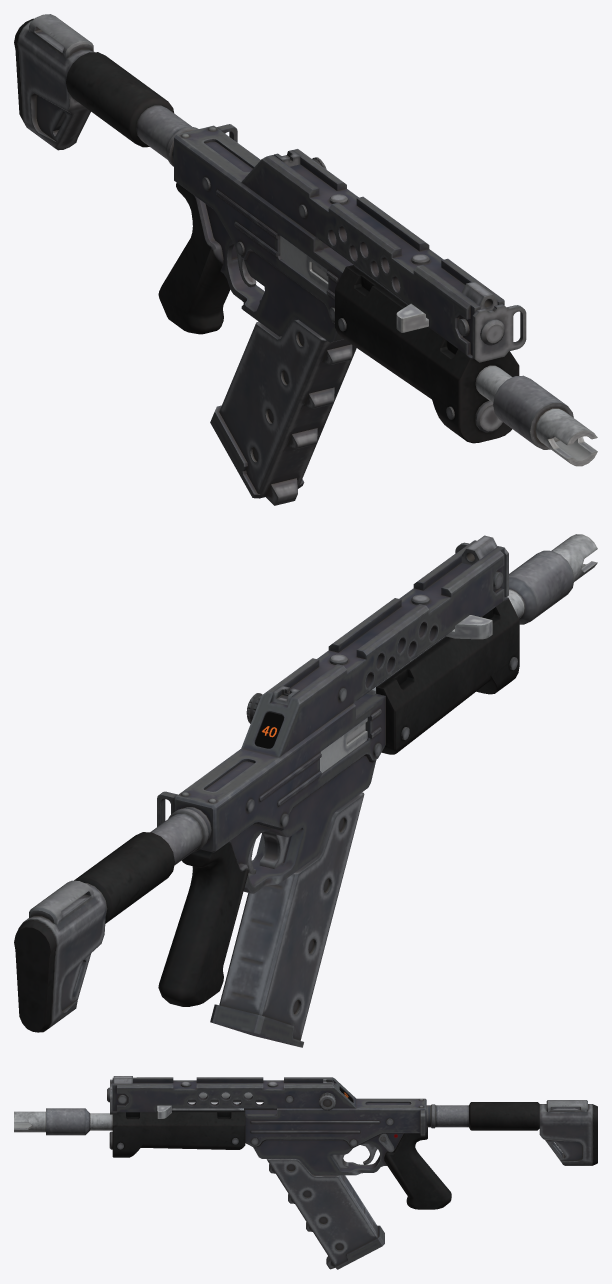
The model's file is gun.glb.
3 views of the same model, one above another, from view 1: azimuth 30°, elevation 25°; view 2: azimuth 150°, elevation 25°; view 3: azimuth 270°, elevation 25° (orthographic). The views are drawn at different scales.
Visible parts, largest first — view 1: base, mag, bolt; view 2: base, mag, bolt, magrelease, visor; view 3: base, mag, bolt.
Boxes of the visible parts, bbox=[...] form: base: bbox=[14, 14, 597, 466]; mag: bbox=[210, 319, 356, 505]; bolt: bbox=[280, 236, 428, 332]; base: bbox=[14, 534, 597, 1032]; mag: bbox=[210, 792, 364, 1047]; bolt: bbox=[320, 615, 492, 772]; magrelease: bbox=[259, 831, 289, 869]; visor: bbox=[255, 712, 283, 748]; base: bbox=[14, 1076, 597, 1209]; mag: bbox=[266, 1159, 384, 1269]; bolt: bbox=[157, 1102, 243, 1118].
Size of the model in its own units: 9.59 by 35.85 by 100.
Materials: 2 (2 with a texture image).
